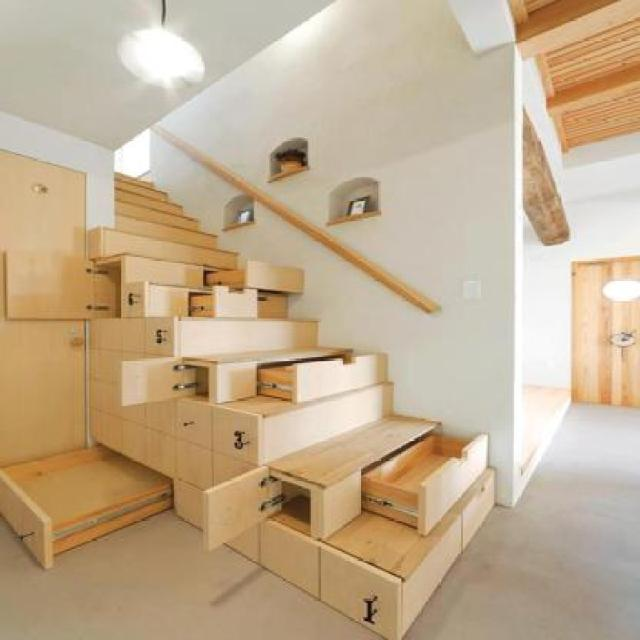stair: (31, 109, 555, 640)
